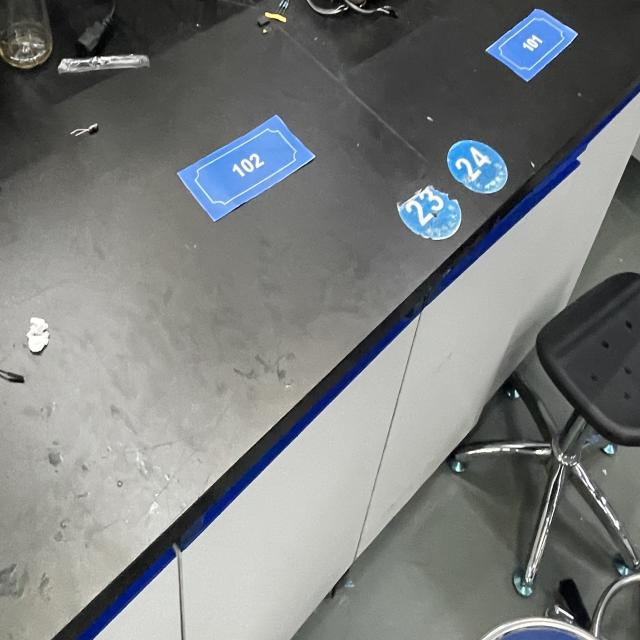Card: (166, 104, 322, 223)
